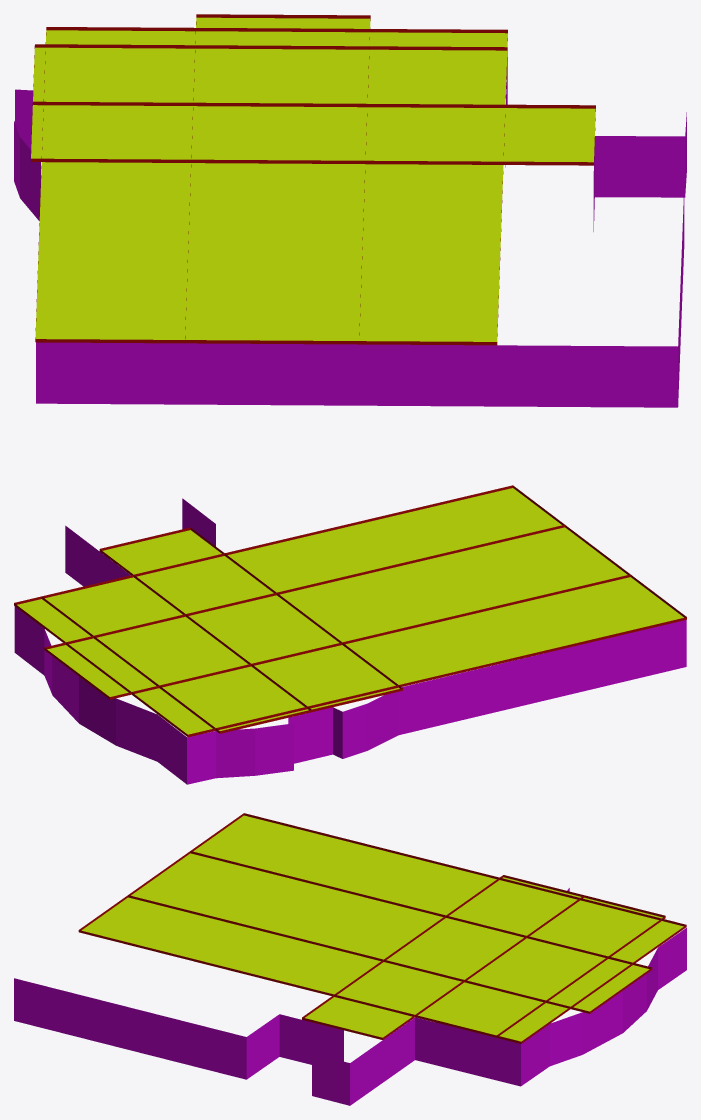
File: bgj_145.glb
3 renders of one model, top to bottom at view 1: azimuth 30°, elevation 25°; view 2: azimuth 150°, elevation 25°; view 3: azimuth 270°, elevation 25°, orthographic. The views are drawn at different scales.
Visible parts, largest first — view 1: bgj_145; view 2: bgj_145; view 3: bgj_145.
Part boxes in pixels (x1,y1,x2,y2): bgj_145: (14,14,686,407); bgj_145: (14,485,686,784); bgj_145: (14,813,686,1105).
Bounding box in the file's own units: 78.63 × 6.67 × 90.26.
